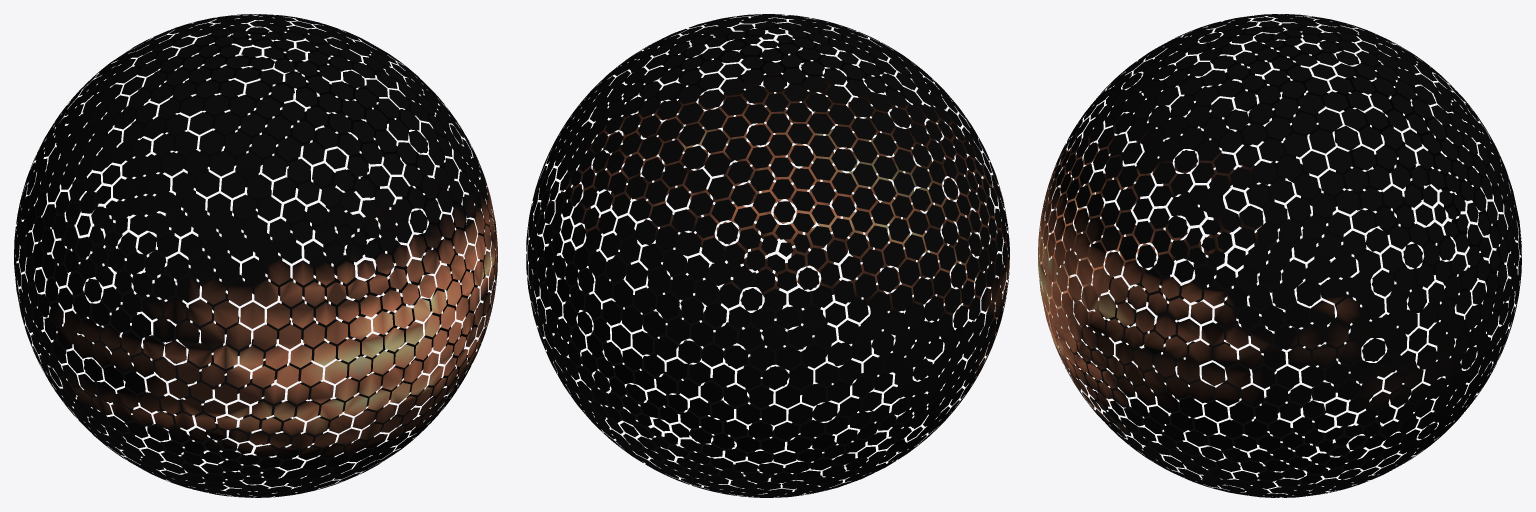
Rendered from plasma_ice.fbx.
The picture shows the model from 3 angles, left to right: view 1: azimuth 30°, elevation 25°; view 2: azimuth 150°, elevation 25°; view 3: azimuth 270°, elevation 25°; orthographic projection.
Parts seen in each view (by area): view 1: plasma_ice; view 2: plasma_ice; view 3: plasma_ice.
Boxes of the visible parts, x1,y1,x2,y2 form: plasma_ice: (14,14,497,497); plasma_ice: (526,14,1009,497); plasma_ice: (1038,14,1521,497).
Size of the model in its own units: 199 by 199 by 199.
